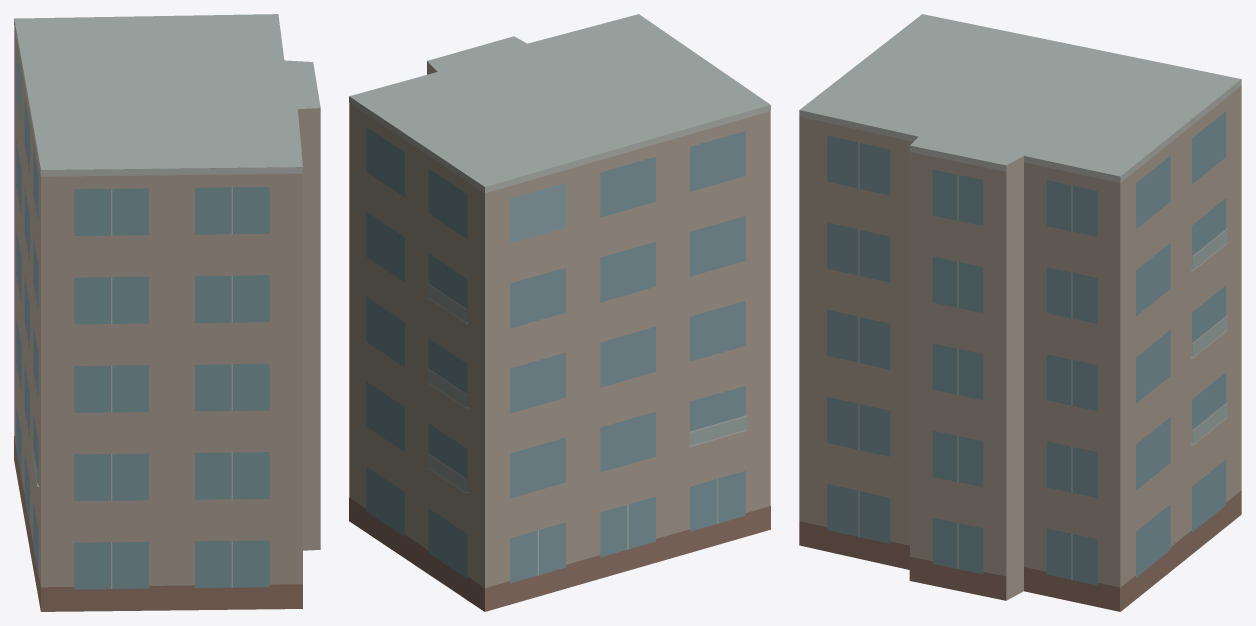
Rendered from survey-upis-32925504.glb.
3 renders of one model, left to right at view 1: azimuth 30°, elevation 25°; view 2: azimuth 150°, elevation 25°; view 3: azimuth 270°, elevation 25°, orthographic. The views are drawn at different scales.
Parts seen in each view (by area): view 1: survey-upis-32925504.tmp; view 2: survey-upis-32925504.tmp; view 3: survey-upis-32925504.tmp.
Boxes of the visible parts, bbox=[...] form: survey-upis-32925504.tmp: bbox=[14, 14, 320, 611]; survey-upis-32925504.tmp: bbox=[349, 14, 770, 611]; survey-upis-32925504.tmp: bbox=[799, 14, 1241, 611].
Bounding box in the file's own units: 13.14 × 16.4 × 15.11.
